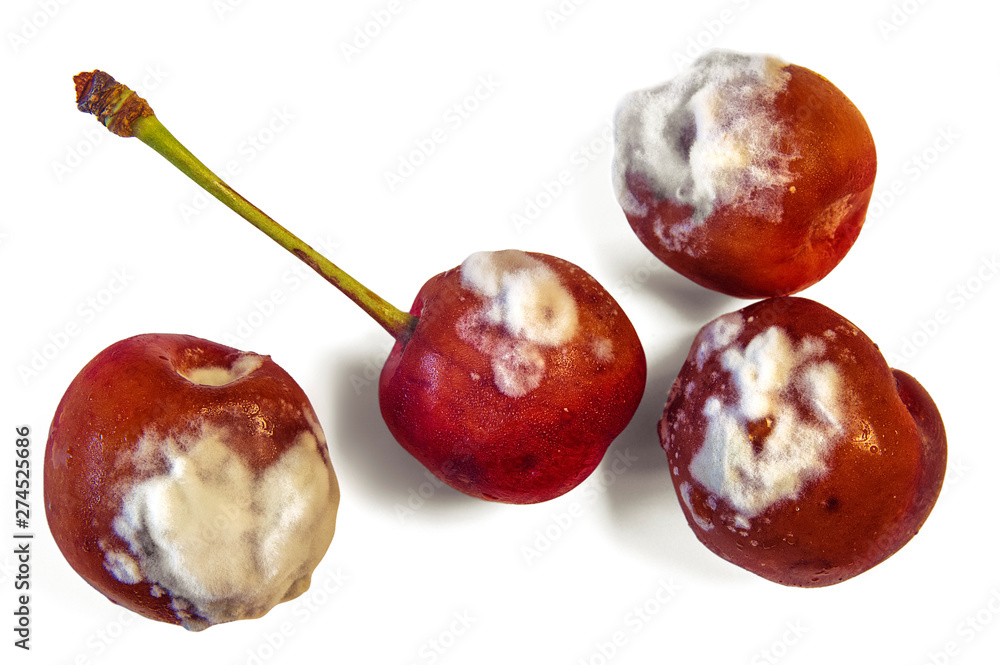cherry: (43, 331, 341, 631), (659, 298, 948, 587), (377, 250, 650, 506), (608, 51, 878, 301)
rotten: (99, 403, 337, 628), (664, 311, 847, 537), (611, 52, 808, 259), (450, 251, 585, 406), (165, 351, 276, 390)
